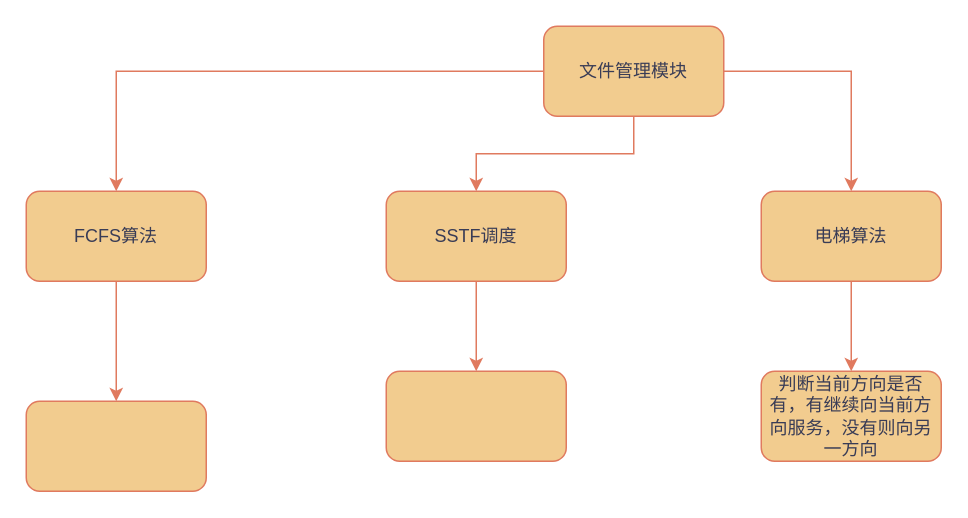
Some shapes in this 968 by 518 pixel diagram are drawn without their labels. Each missing label, with the centre of its shape:
寻找与当前磁道位置最近的进行调度: point (475, 415)
按请求到达的顺序进行调度: point (115, 445)
